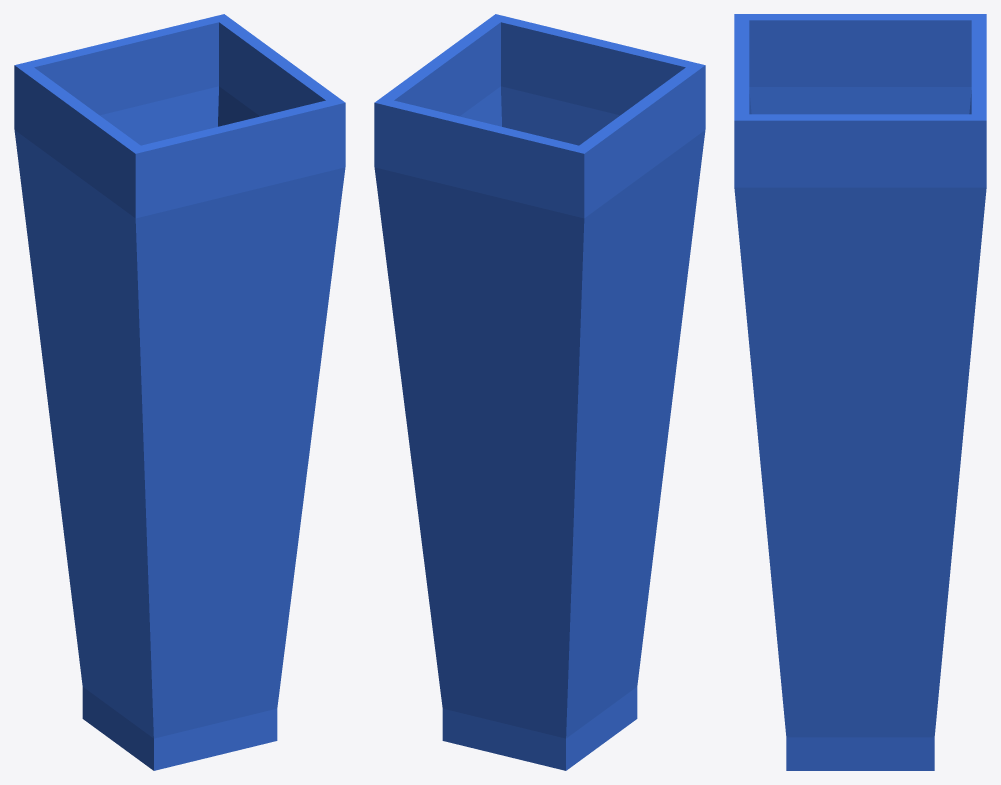
Rendered from BlueBin.dae.
3 views of the same model, side by side, from view 1: azimuth 30°, elevation 25°; view 2: azimuth 150°, elevation 25°; view 3: azimuth 270°, elevation 25° (orthographic). The views are drawn at different scales.
Parts seen in each view (by area): view 1: BlueBin; view 2: BlueBin; view 3: BlueBin.
Part boxes in pixels (x1,y1,x2,y2): BlueBin: [14, 14, 345, 770]; BlueBin: [374, 14, 705, 770]; BlueBin: [734, 14, 986, 770].
Size of the model in its own units: 0.17 by 0.17 by 0.5.
